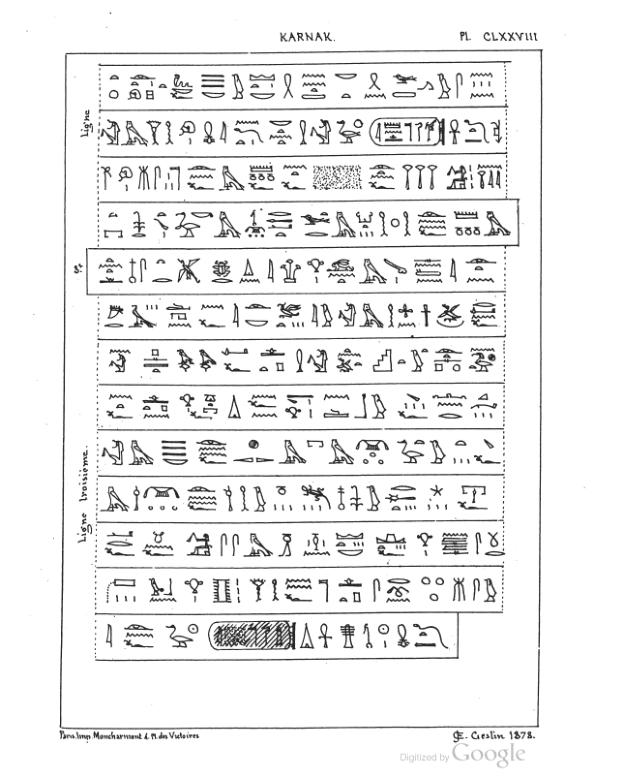circle: (205, 619, 298, 651), (367, 114, 446, 147)
